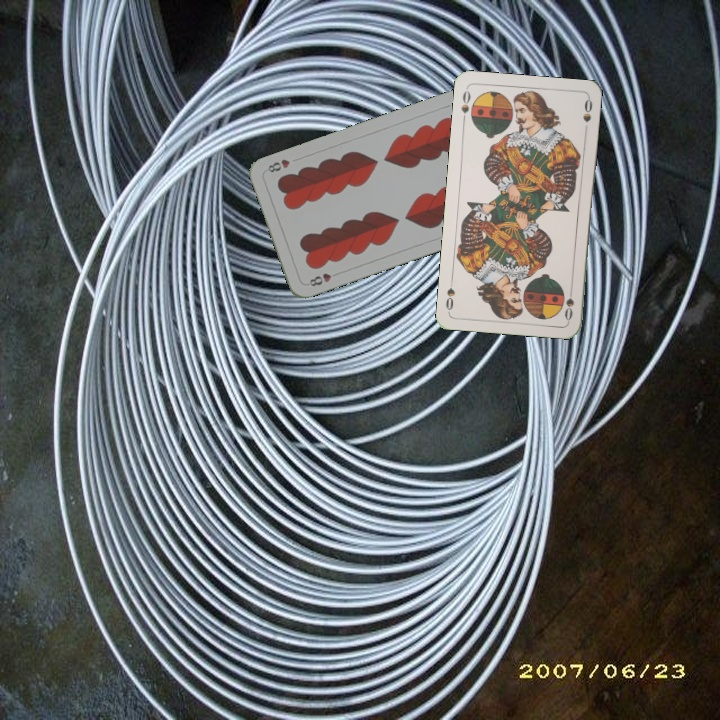H8: (306, 268, 342, 289)
SO: (457, 85, 473, 125), (561, 282, 576, 323)
